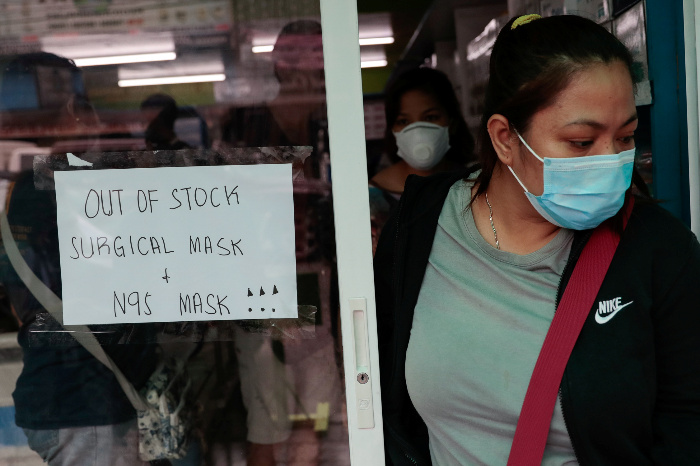n95: (391, 120, 454, 173)
surgical: (521, 143, 640, 238)
